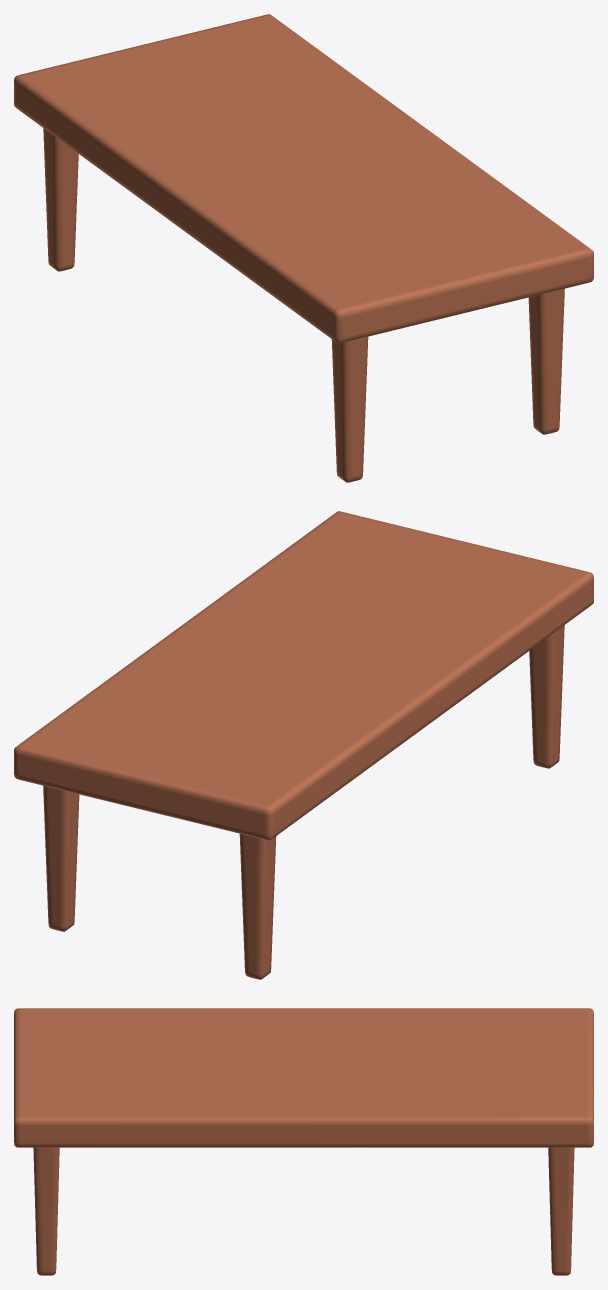
File: low_table.glb
3 views of the same model, one above another, from view 1: azimuth 30°, elevation 25°; view 2: azimuth 150°, elevation 25°; view 3: azimuth 270°, elevation 25° (orthographic). The views are drawn at different scales.
Parts seen in each view (by area): view 1: LivingFloor.Table; view 2: LivingFloor.Table; view 3: LivingFloor.Table.
Part boxes in pixels (left/top/right/bottom): LivingFloor.Table: left=14, top=14, right=593, bottom=482; LivingFloor.Table: left=14, top=511, right=593, bottom=979; LivingFloor.Table: left=14, top=1008, right=593, bottom=1275.
Size of the model in its own units: 0.5518 by 0.3814 by 1.2.
Materials: 1 (1 with a texture image).
